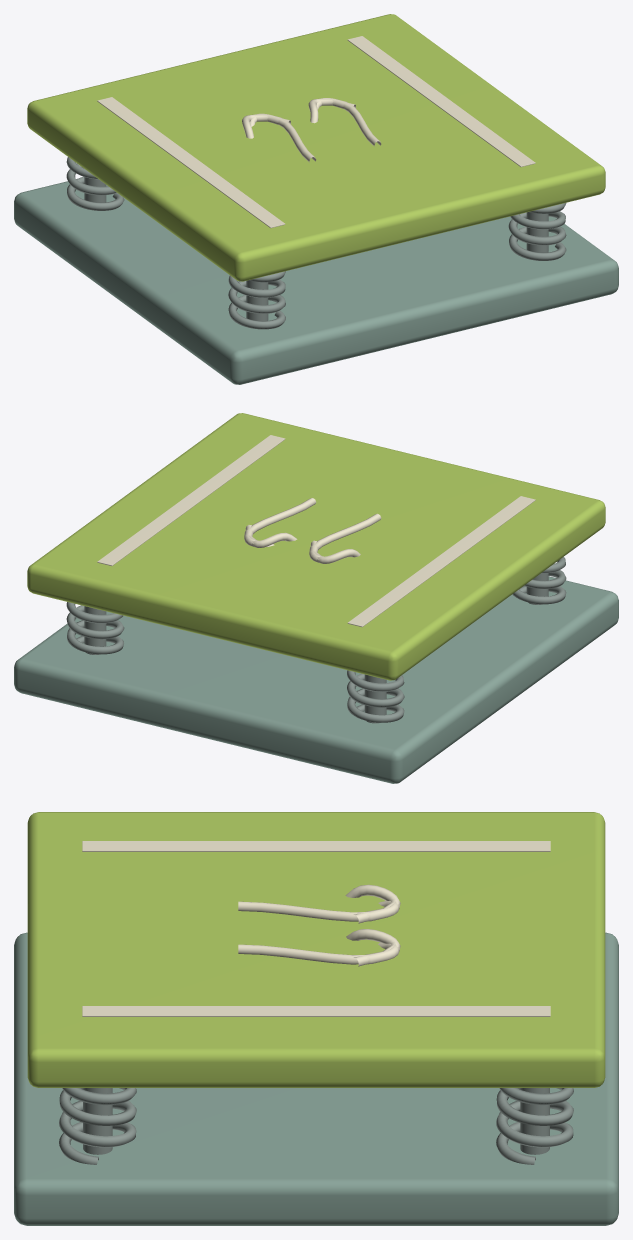
Rendered from return_spring.glb.
The picture shows the model from 3 angles, top to bottom: view 1: azimuth 30°, elevation 25°; view 2: azimuth 150°, elevation 25°; view 3: azimuth 270°, elevation 25°; orthographic projection. The views are drawn at different scales.
Visible parts, largest first — view 1: Launch plate, Base casting, Surface Ivory paper.005, Surface Brushed dark steel.003; view 2: Launch plate, Base casting, Surface Ivory paper.005, Surface Brushed dark steel.003; view 3: Launch plate, Base casting, Surface Ivory paper.005, Surface Brushed dark steel.003.
Boxes of the visible parts, x1,y1,x2,y2 form: Launch plate: (27, 14, 605, 281); Base casting: (14, 181, 618, 384); Surface Ivory paper.005: (97, 36, 535, 228); Surface Brushed dark steel.003: (66, 157, 566, 329); Launch plate: (27, 413, 605, 680); Base casting: (14, 576, 618, 783); Surface Ivory paper.005: (97, 435, 535, 627); Surface Brushed dark steel.003: (66, 557, 566, 723); Launch plate: (27, 812, 605, 1087); Base casting: (14, 932, 618, 1225); Surface Ivory paper.005: (82, 841, 550, 1016); Surface Brushed dark steel.003: (59, 1088, 573, 1164).
Size of the model in its own units: 1.55 by 0.5203 by 1.55.
